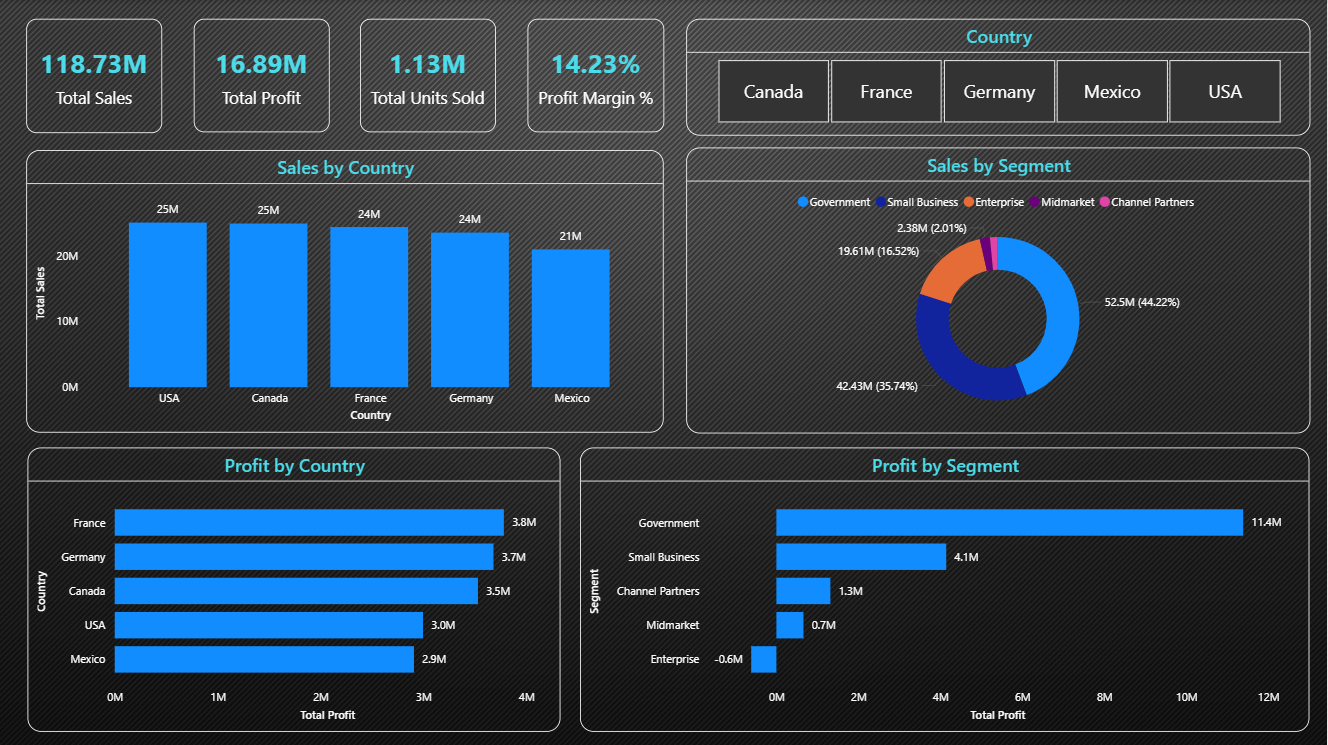

This screenshot's page, from the dashboard's own definition file:
{"tool":"powerbi","page":{"name":"Geographic & Segment Analysis","canvas":[1280,720],"ordinal":2},"visuals":[{"type":"group","id":"g1","title":"Group 1","box":[25,17.5,615,110],"z":0},{"type":"card","fields":{"Values":["Measures_.Total Sales"]},"box":[25,17.5,130.9,110],"z":0,"group":"g1"},{"type":"card","fields":{"Values":["Measures_.Total Profit"]},"box":[186.1,17.5,130.9,109.5],"z":1000,"group":"g1"},{"type":"columnChart","title":"Sales by Country","fields":{"Category":["Financials.Country"],"Y":["Measures_.Total Sales"]},"box":[25,145,615,272.5],"z":1000},{"type":"card","fields":{"Values":["Measures_.Total Units Sold"]},"box":[347.2,17.5,130.9,109.5],"z":2000,"group":"g1"},{"type":"barChart","title":"Profit by Country","fields":{"Category":["Financials.Country"],"Y":["Measures_.Total Profit"]},"box":[26,432,514,274],"z":2000},{"type":"card","fields":{"Values":["Measures_.Profit Margin %"]},"box":[508.3,17.5,131.7,109.9],"z":3000,"group":"g1"},{"type":"donutChart","title":"Sales by Segment","fields":{"Category":["Financials.Segment"],"Y":["Measures_.Total Sales"]},"box":[662,142,602,276],"z":3000},{"type":"barChart","title":"Profit by Segment","fields":{"Category":["Financials.Segment"],"Y":["Measures_.Total Profit"]},"box":[560,432,704,274],"z":4000},{"type":"slicer","title":"Country","fields":{"Values":["Financials.Country"]},"box":[662.5,17.5,602.5,112.5],"z":5000}]}

Visuals, with their boxes in screenshot pixels (x1, y1, x2, y2), scaled from the page's 1280x720 canvas onto the 1328x745 screenshot:
"Group 1" group: region(26, 18, 664, 132)
card - Measures_.Total Sales: region(26, 18, 162, 132)
card - Measures_.Total Profit: region(193, 18, 329, 131)
"Sales by Country" columnChart: region(26, 150, 664, 432)
card - Measures_.Total Units Sold: region(360, 18, 496, 131)
"Profit by Country" barChart: region(27, 447, 560, 731)
card - Measures_.Profit Margin %: region(527, 18, 664, 132)
"Sales by Segment" donutChart: region(687, 147, 1311, 433)
"Profit by Segment" barChart: region(581, 447, 1311, 731)
"Country" slicer: region(687, 18, 1312, 135)
